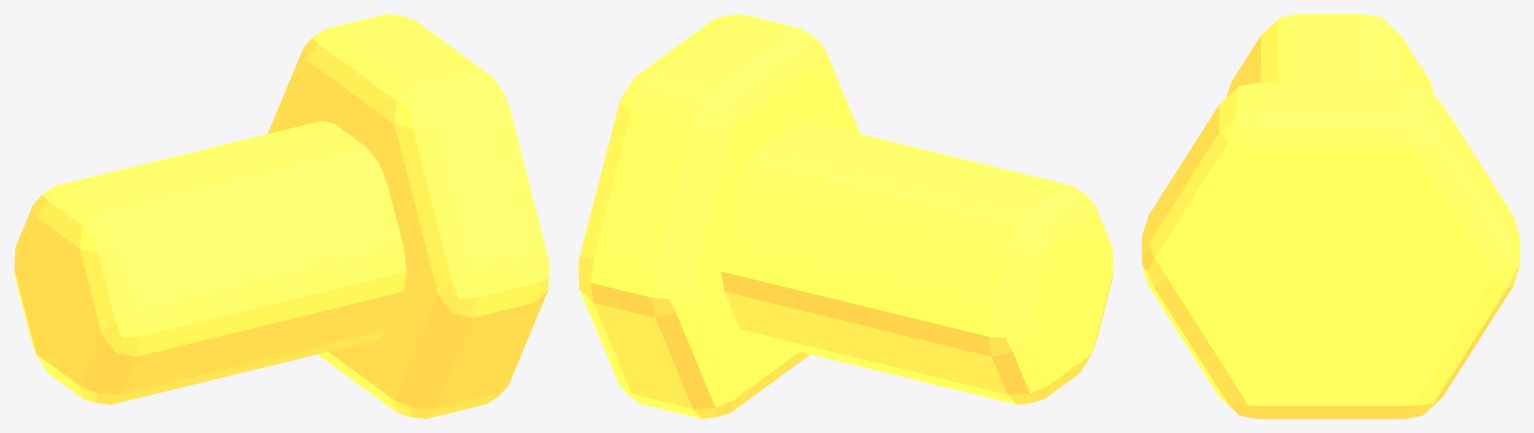
Rendered from Veteran_LuckyBolt.glb.
The picture shows the model from 3 angles, left to right: view 1: azimuth 30°, elevation 25°; view 2: azimuth 150°, elevation 25°; view 3: azimuth 270°, elevation 25°; orthographic projection. The views are drawn at different scales.
Parts seen in each view (by area): view 1: Veteran_LuckyBolt, Veteran_LuckyBolt_Head; view 2: Veteran_LuckyBolt, Veteran_LuckyBolt_Head; view 3: Veteran_LuckyBolt_Head, Veteran_LuckyBolt.
Part boxes in pixels (x1,y1,x2,y2): Veteran_LuckyBolt: [14, 120, 406, 404]; Veteran_LuckyBolt_Head: [267, 14, 549, 418]; Veteran_LuckyBolt: [721, 120, 1113, 404]; Veteran_LuckyBolt_Head: [578, 14, 860, 418]; Veteran_LuckyBolt_Head: [1142, 82, 1519, 418]; Veteran_LuckyBolt: [1227, 14, 1434, 96].
Size of the model in its own units: 0.29 by 0.2252 by 0.2506.
